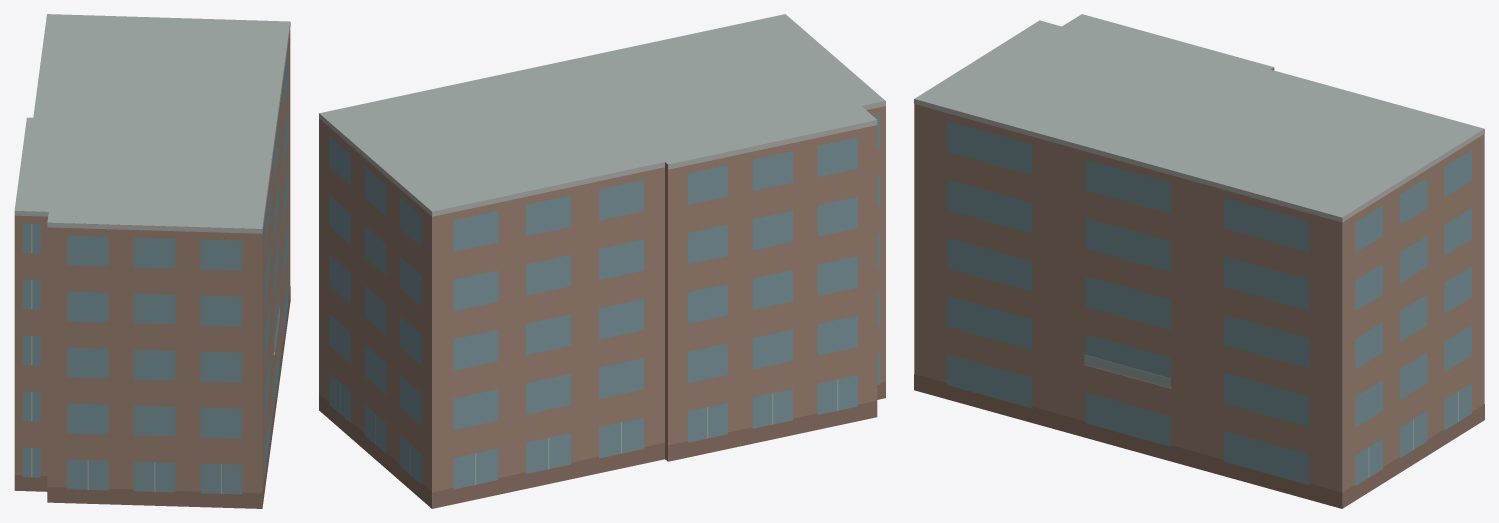
The model's file is survey-upis-32741603.glb.
The picture shows the model from 3 angles, left to right: view 1: azimuth 30°, elevation 25°; view 2: azimuth 150°, elevation 25°; view 3: azimuth 270°, elevation 25°; orthographic projection. The views are drawn at different scales.
Parts seen in each view (by area): view 1: survey-upis-32741603.tmp; view 2: survey-upis-32741603.tmp; view 3: survey-upis-32741603.tmp.
Boxes of the visible parts, x1,y1,x2,y2 form: survey-upis-32741603.tmp: (14, 14, 290, 508); survey-upis-32741603.tmp: (319, 14, 885, 508); survey-upis-32741603.tmp: (914, 14, 1484, 508).
Size of the model in its own units: 21.44 by 14.3 by 25.39.
